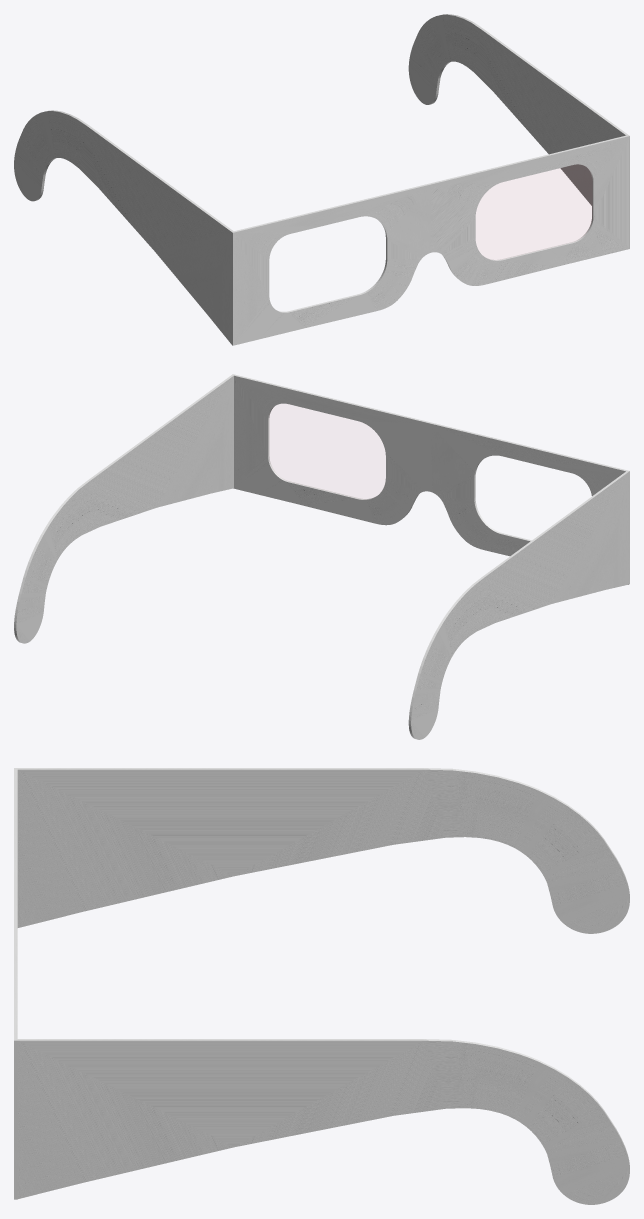
File: new_3d-anaglyph_v11.gltf
3 views of the same model, one above another, from view 1: azimuth 30°, elevation 25°; view 2: azimuth 150°, elevation 25°; view 3: azimuth 270°, elevation 25° (orthographic). The views are drawn at different scales.
Parts seen in each view (by area): view 1: glasses; view 2: glasses; view 3: glasses.
Boxes of the visible parts, x1,y1,x2,y2 form: glasses: (14, 14, 629, 345); glasses: (14, 374, 629, 739); glasses: (14, 768, 629, 1204).
Size of what is drawn, in the model's own units: 5.05 by 1.42 by 4.83.
2 materials, 1 textured.
